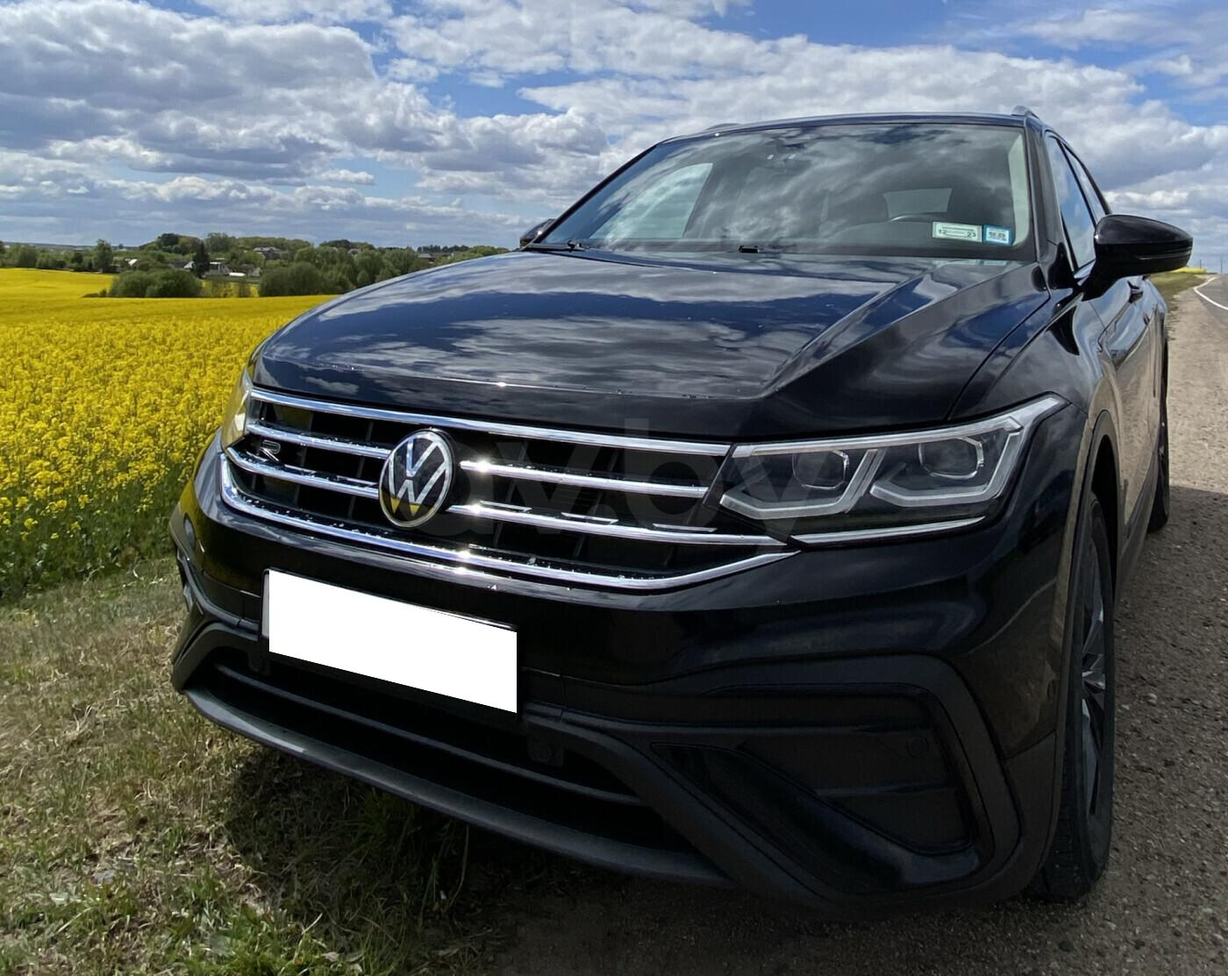Tiguan_2020-2024: (164, 101, 1174, 906)
